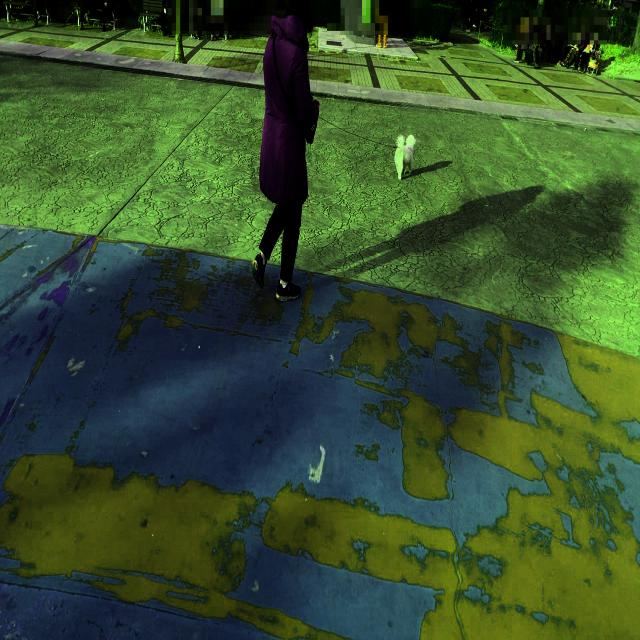Leashed_Dog: (285, 93, 415, 181)
